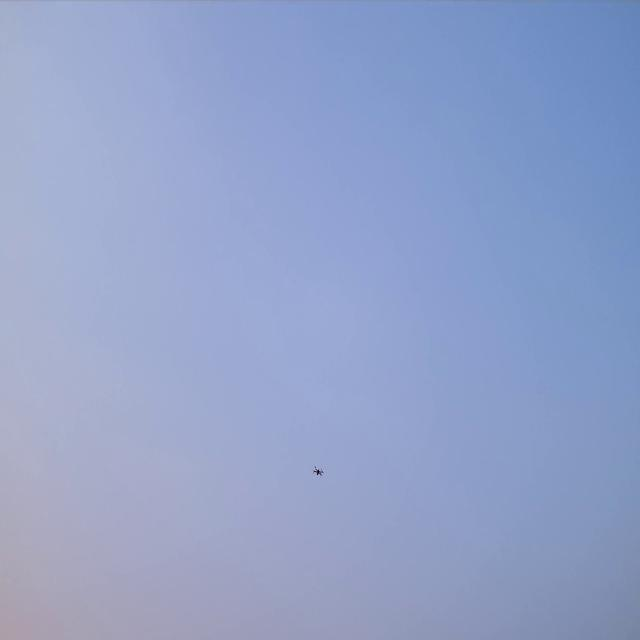UAV: (312, 463, 325, 479)
